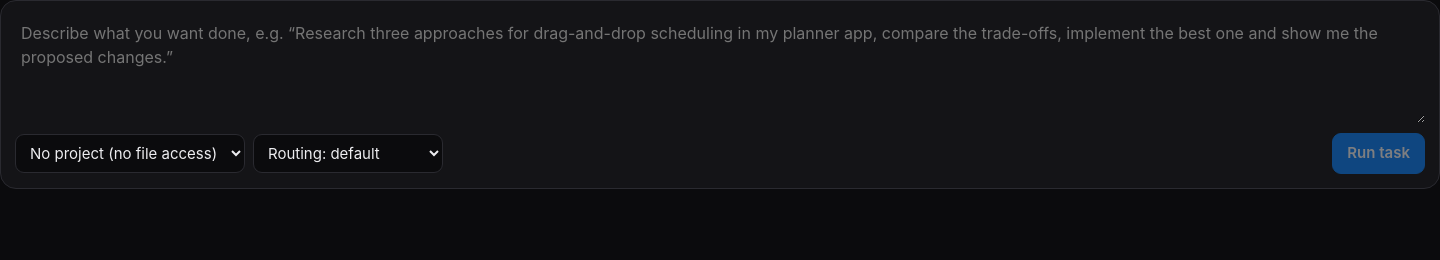
Test: TaskInput › shows the server error when a task is rejected
Type "Do something useful" into the text box labelled "Describe what you want done" at (720, 69), box [15, 15, 1425, 123]
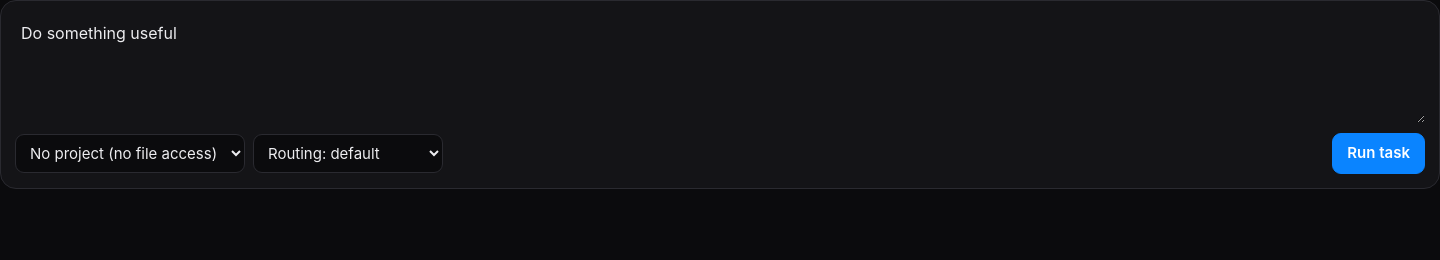
Submit the form named "Describe what you want done"
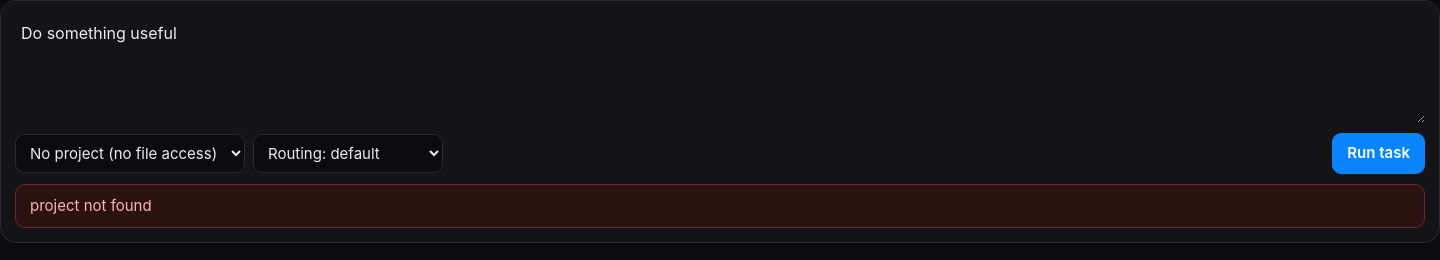
Expected: the text "project not found" is shown, [15, 184, 1425, 228]
